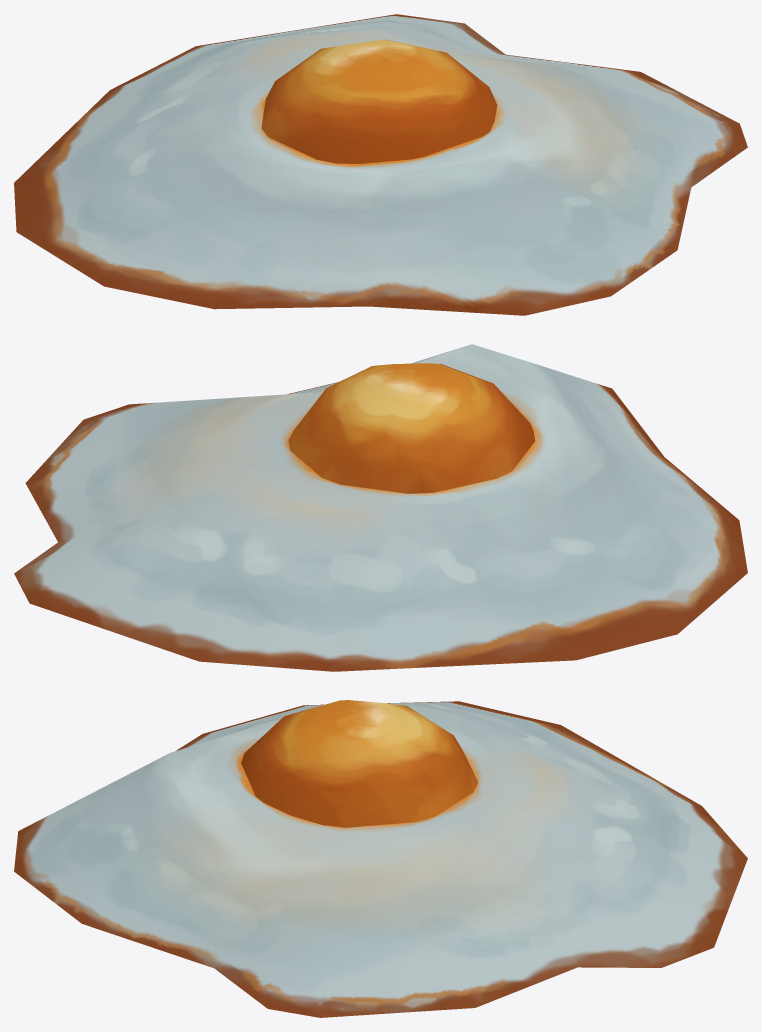
The model's file is FriedEgg.glb.
3 views of the same model, one above another, from view 1: azimuth 30°, elevation 25°; view 2: azimuth 150°, elevation 25°; view 3: azimuth 270°, elevation 25° (orthographic). The views are drawn at different scales.
Parts seen in each view (by area): view 1: Object_6; view 2: Object_6; view 3: Object_6.
Boxes of the visible parts, left/top/right/bottom form: Object_6: left=14, top=14, right=747, bottom=315; Object_6: left=14, top=344, right=747, bottom=671; Object_6: left=14, top=700, right=747, bottom=1017.
Size of the model in its own units: 0.2823 by 0.0577 by 0.2765.
1 material, 1 textured.
